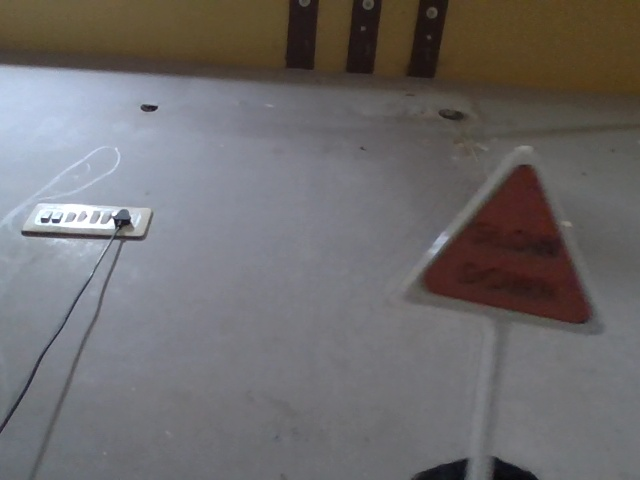slowdown: (401, 131, 609, 360)
